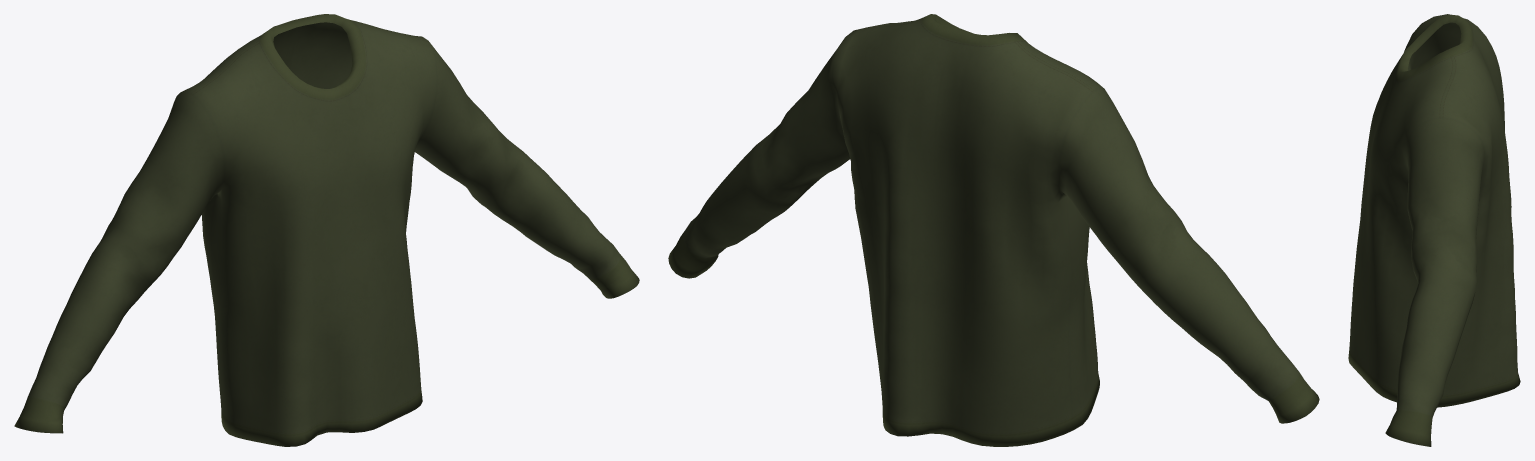
Rendered from sweater.glb.
3 views of the same model, side by side, from view 1: azimuth 30°, elevation 25°; view 2: azimuth 150°, elevation 25°; view 3: azimuth 270°, elevation 25° (orthographic). The views are drawn at different scales.
Visible parts, largest first — view 1: Object_2; view 2: Object_2; view 3: Object_2.
Boxes of the visible parts, left/top/right/bottom form: Object_2: left=14, top=14, right=639, bottom=446; Object_2: left=668, top=14, right=1319, bottom=446; Object_2: left=1348, top=14, right=1520, bottom=446.
Bounding box in the file's own units: 1.2 × 0.703 × 0.3222.
1 material, 1 textured.
